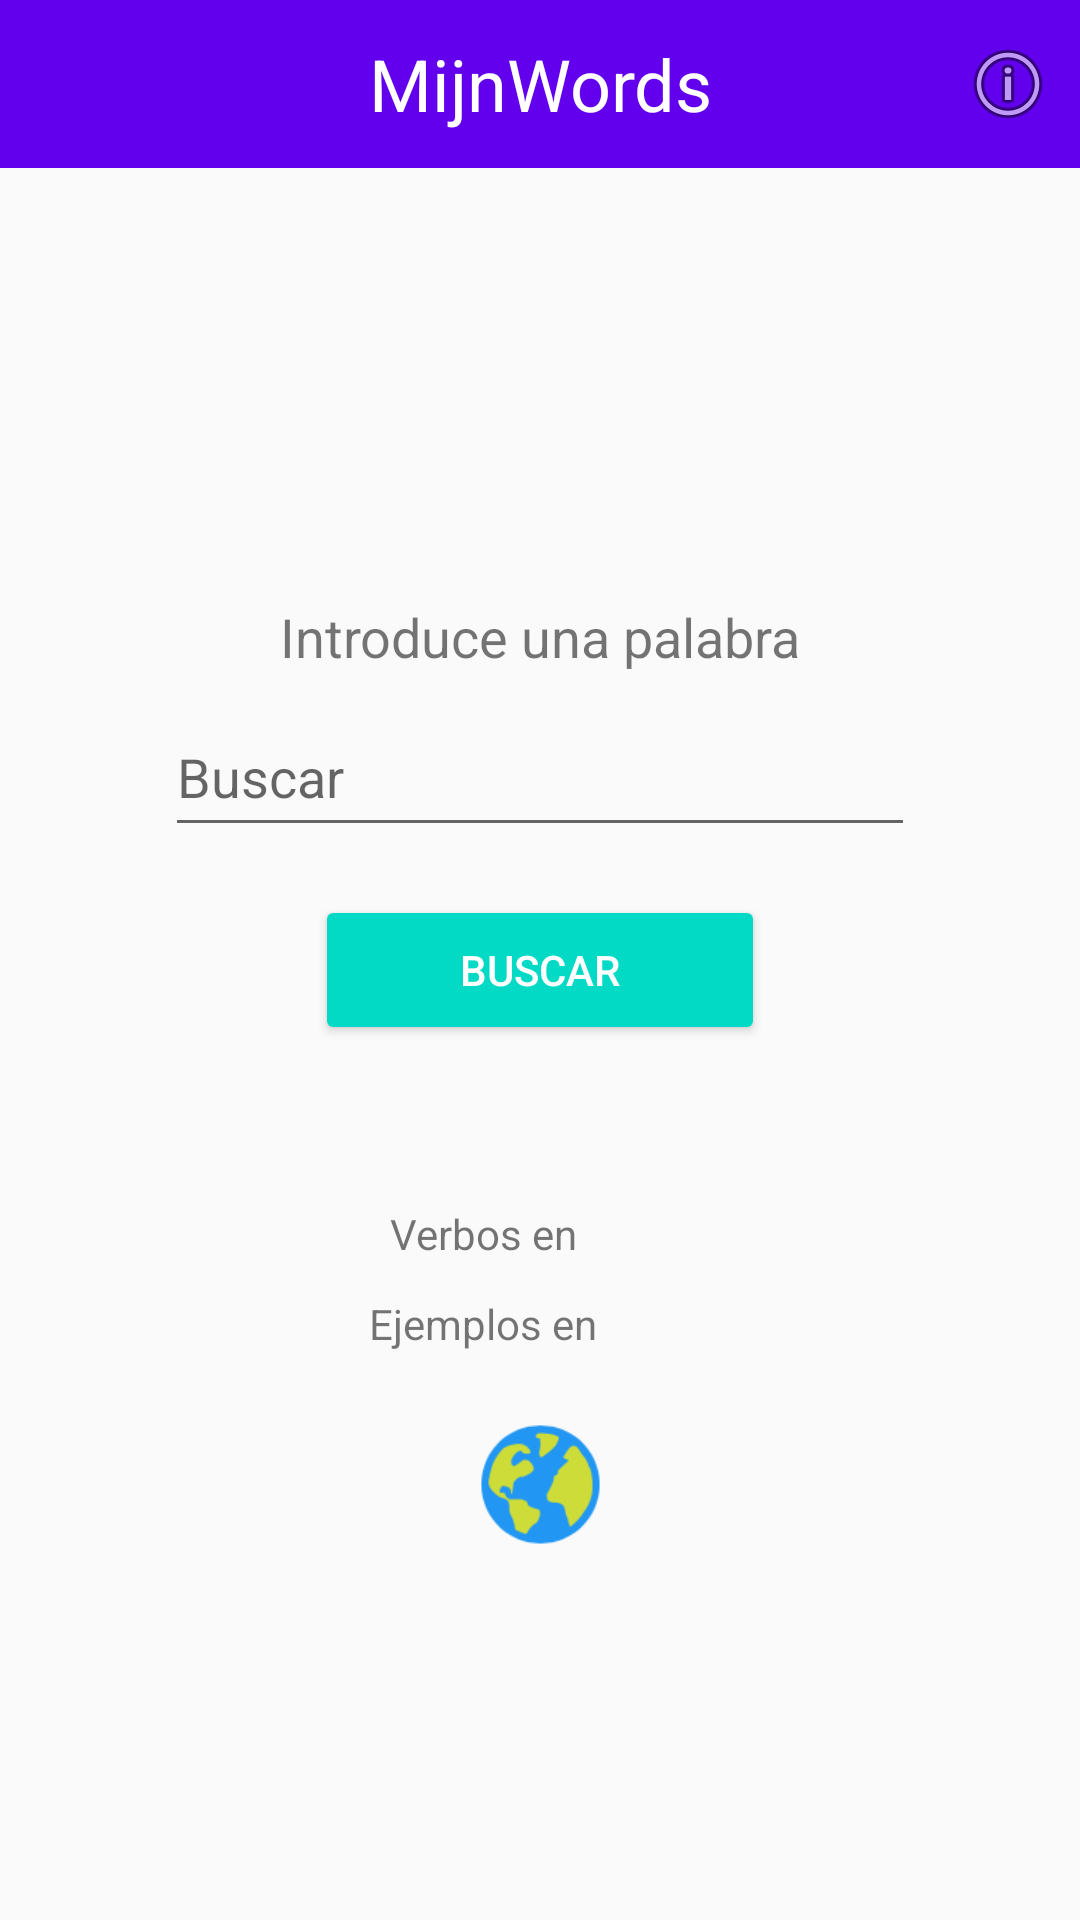

Screen size 1080x1920. Icon name, then its box in pixels as (x1, y1, x2, y2):
info details: (973, 49, 1043, 119)
world: (481, 1425, 600, 1544)
